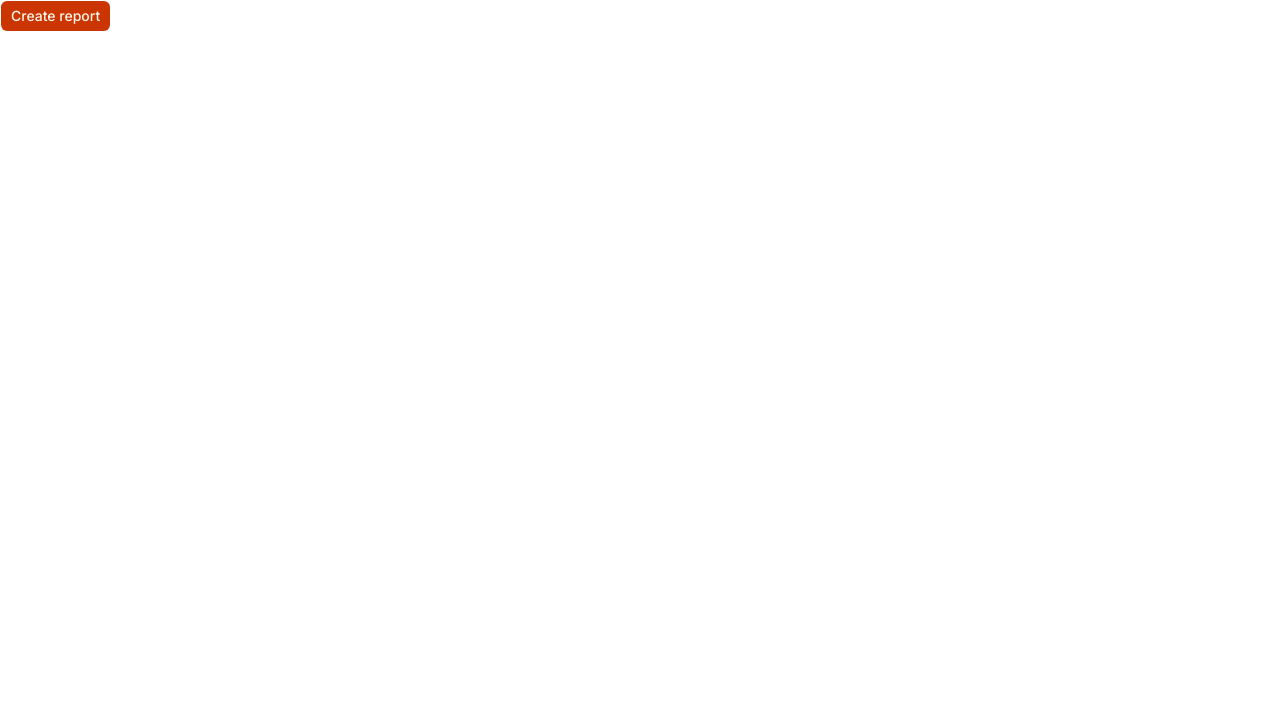
Scenario: daily report create form › asks before discarding a changed business date and retains it when kept open
Click the button "Create report": (56, 16) [0,0,111,32]
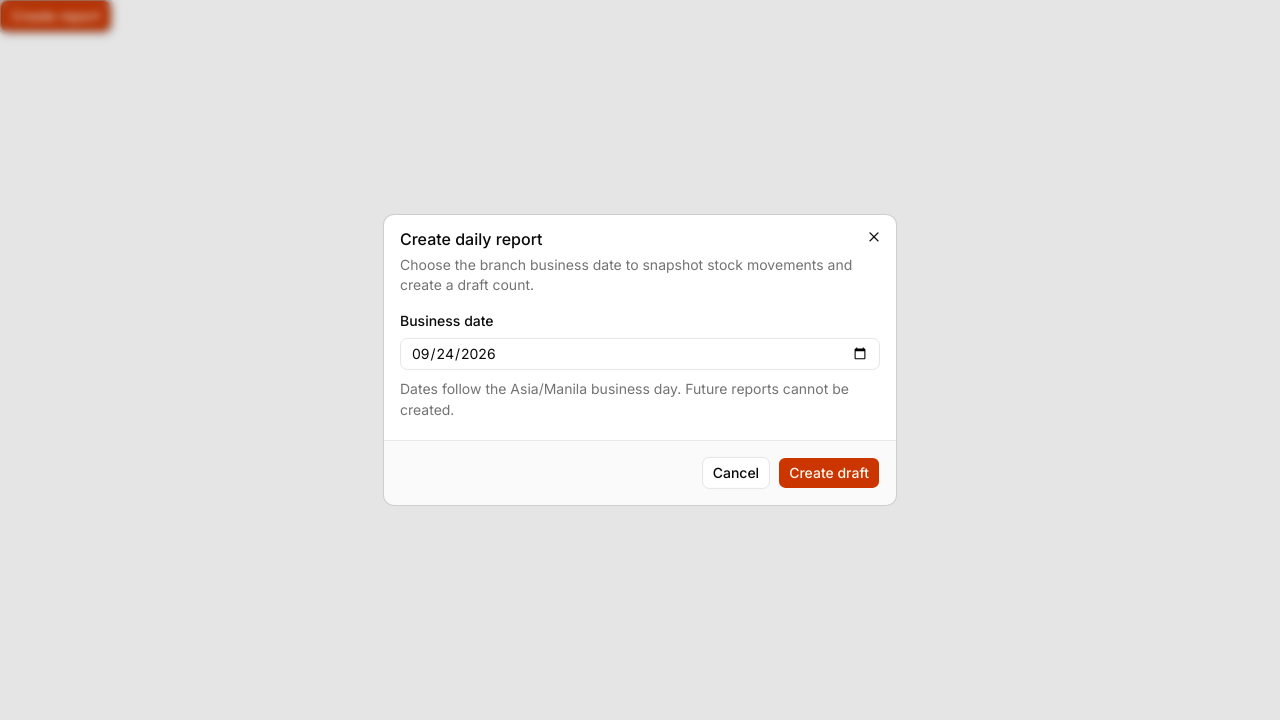
In the date field labelled "Business date": (640, 354) [400,338,880,370], type "2026-09-23"
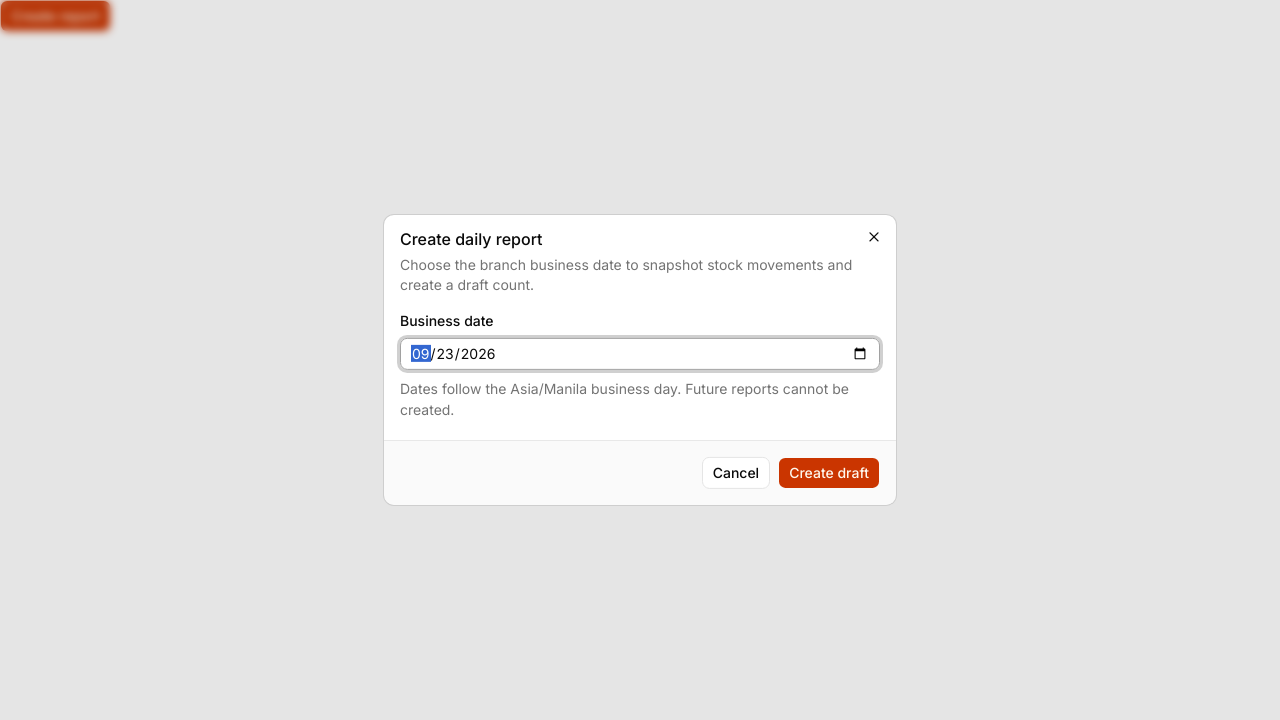
Click the button "Cancel": (736, 473) [702,457,770,489]
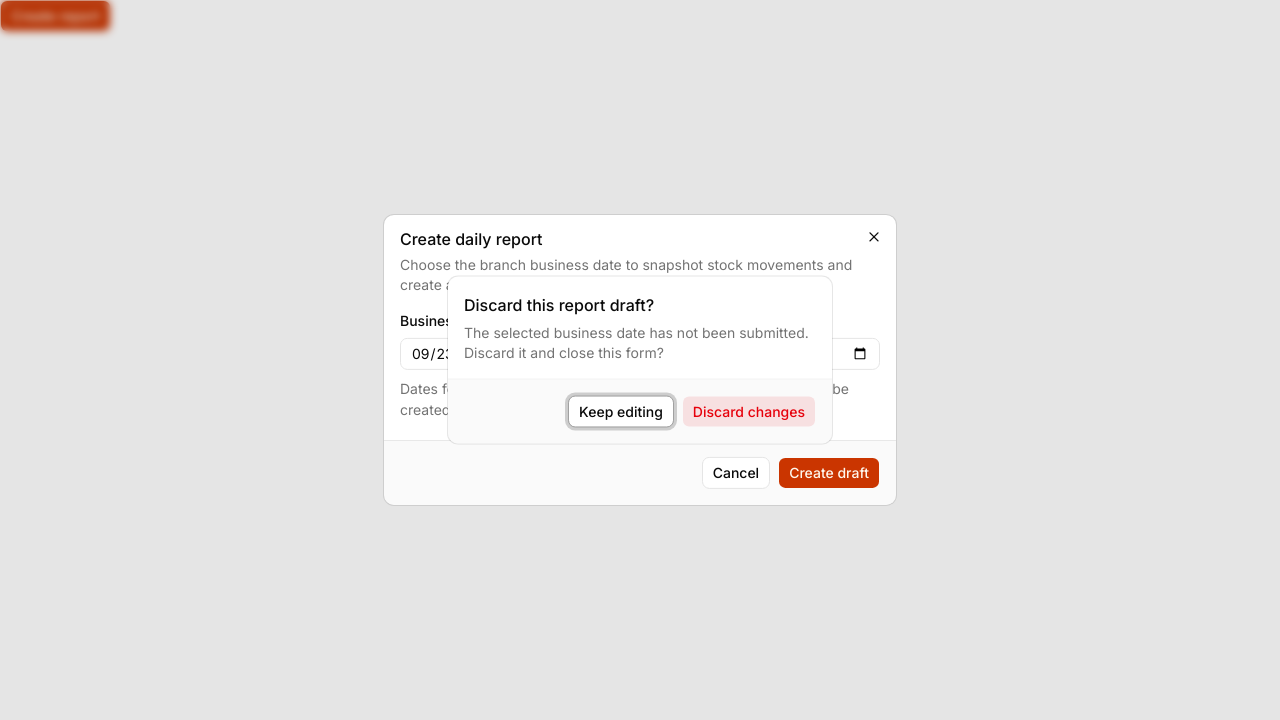
Now the heading "Discard this report draft?" is shown, box [464,292,654,316]
Click the button "Keep editing": (621, 412) [568,396,674,428]
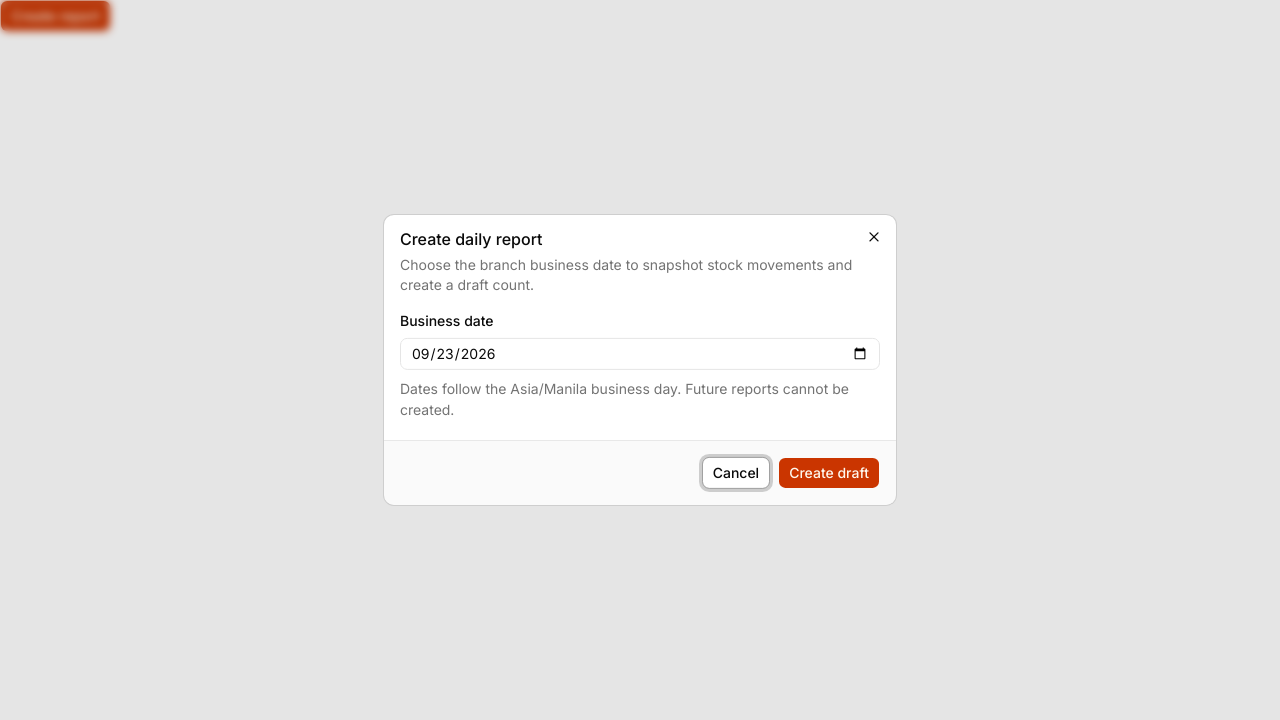
Click the button "Cancel": (736, 473) [702,457,770,489]
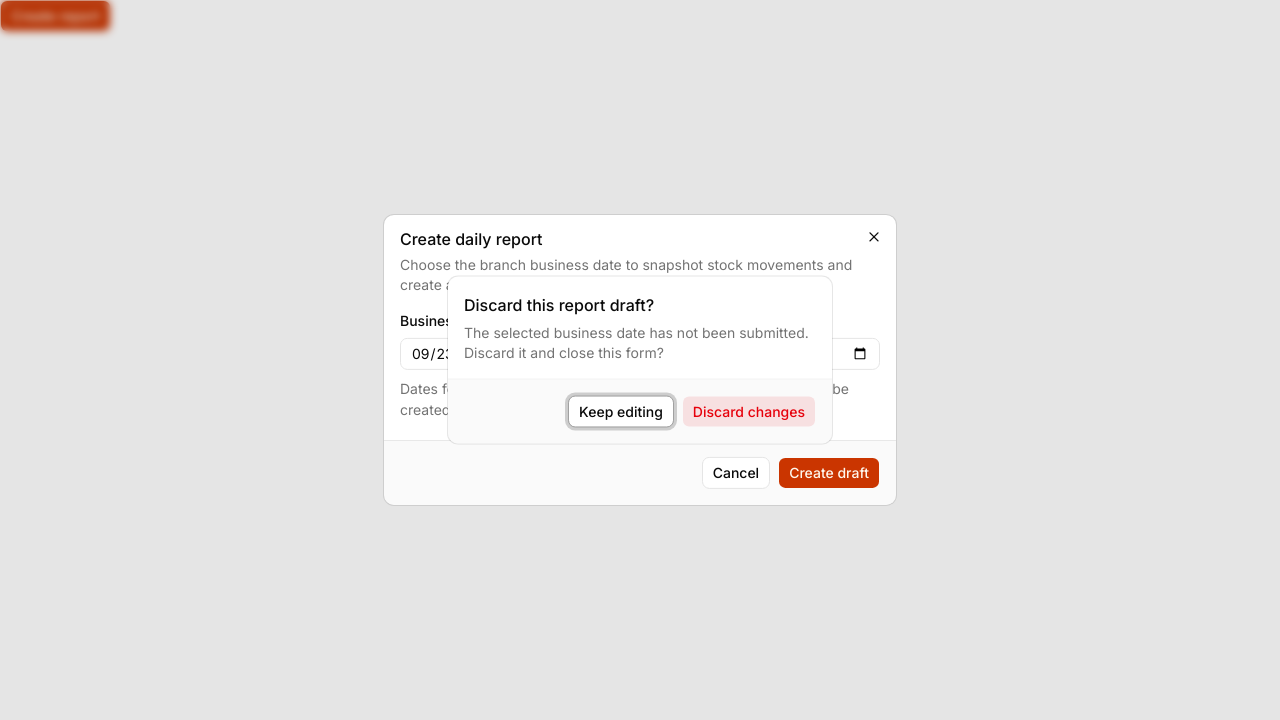
Click the button "Discard changes": (749, 412) [682,396,816,428]
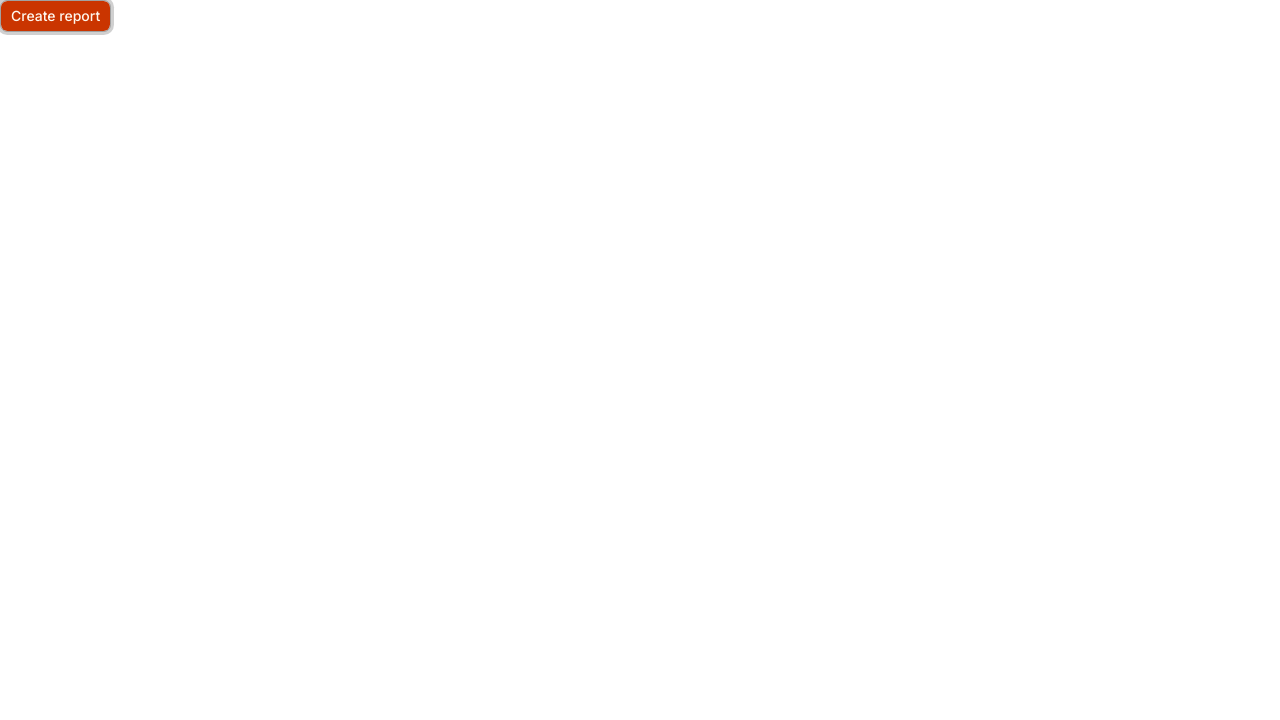
Now the dialog is gone
